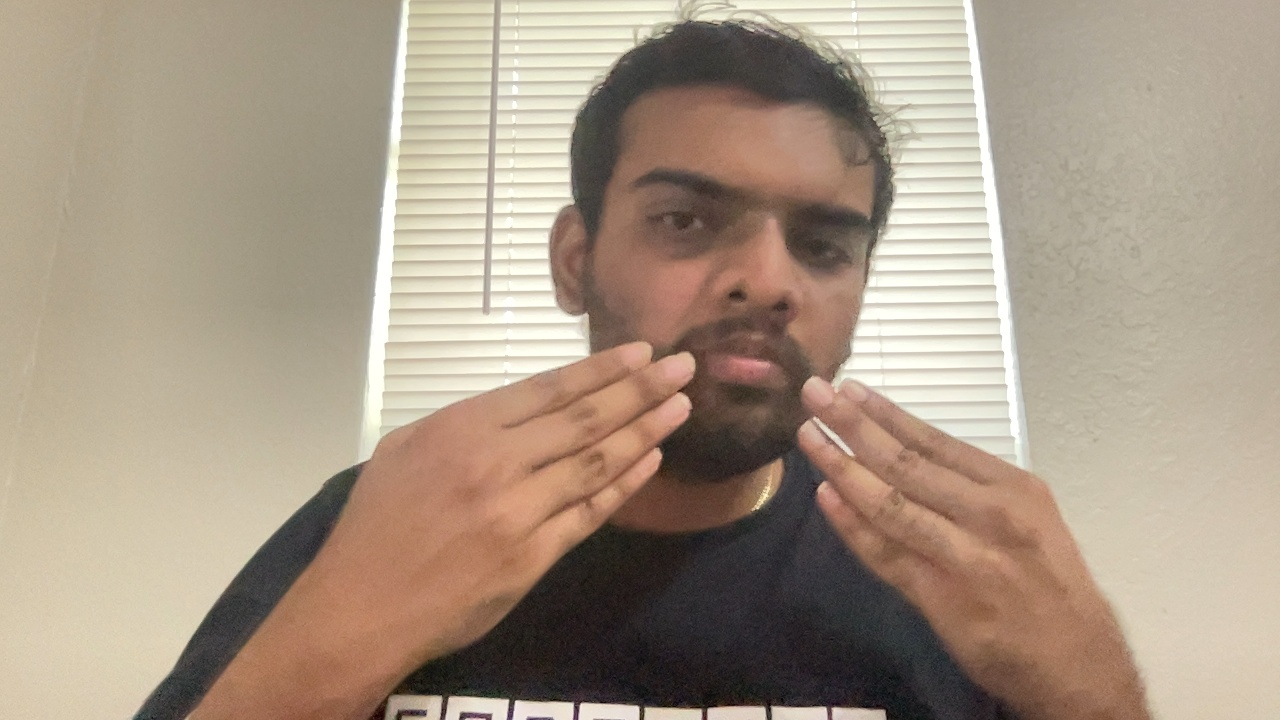thanks: (273, 336, 1145, 693)
